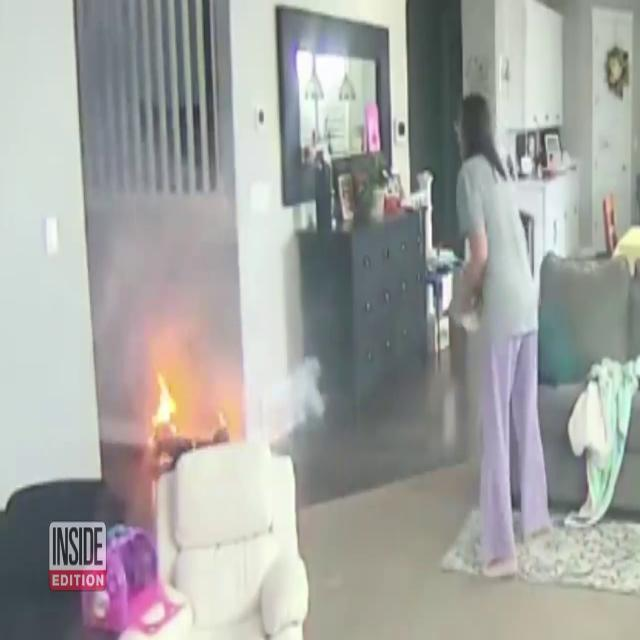Fire: (144, 342, 246, 456)
Smoke: (84, 164, 242, 416)
